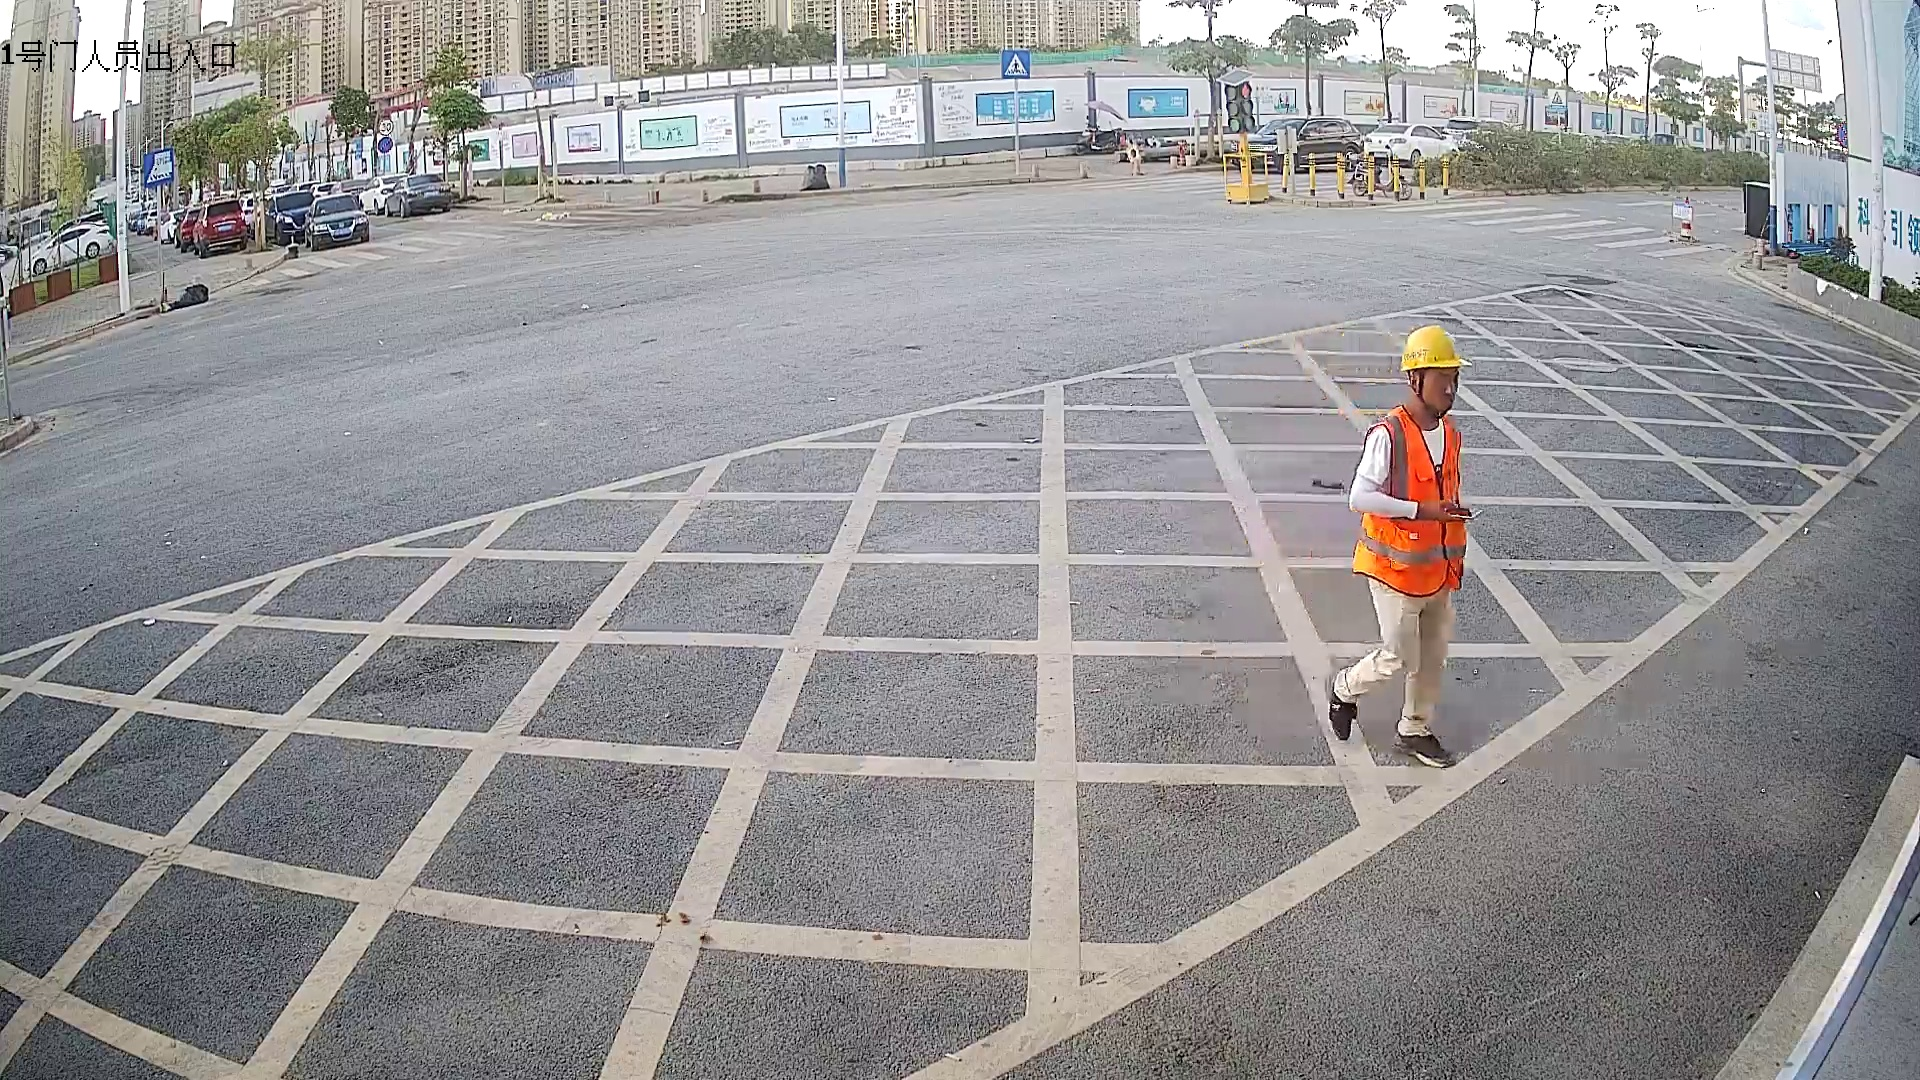person: (1319, 320, 1477, 777)
reflective_vest: (1343, 404, 1469, 599)
safety_helmet: (1397, 322, 1475, 416)
